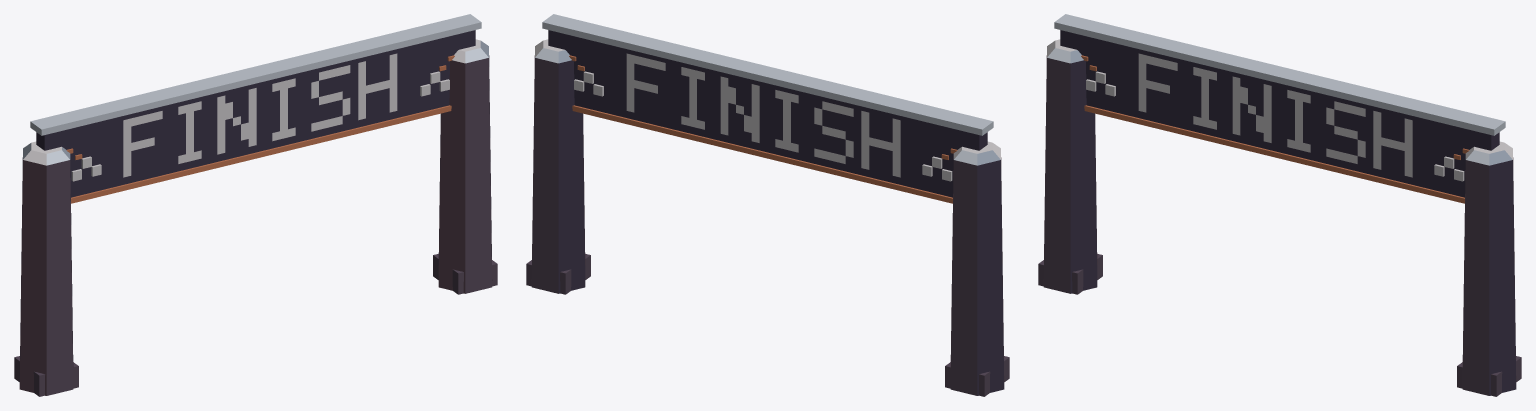
The model's file is finish.glb.
The picture shows the model from 3 angles, left to right: view 1: azimuth 30°, elevation 25°; view 2: azimuth 150°, elevation 25°; view 3: azimuth 330°, elevation 25°; orthographic projection.
Visible parts, largest first — view 1: finish; view 2: finish; view 3: finish.
Part boxes in pixels (box(x1,y1,x2,y2)): finish: box(14, 14, 497, 396); finish: box(526, 14, 1009, 396); finish: box(1038, 14, 1521, 396).
Bounding box in the file's own units: 10.2 × 5.36 × 1.
